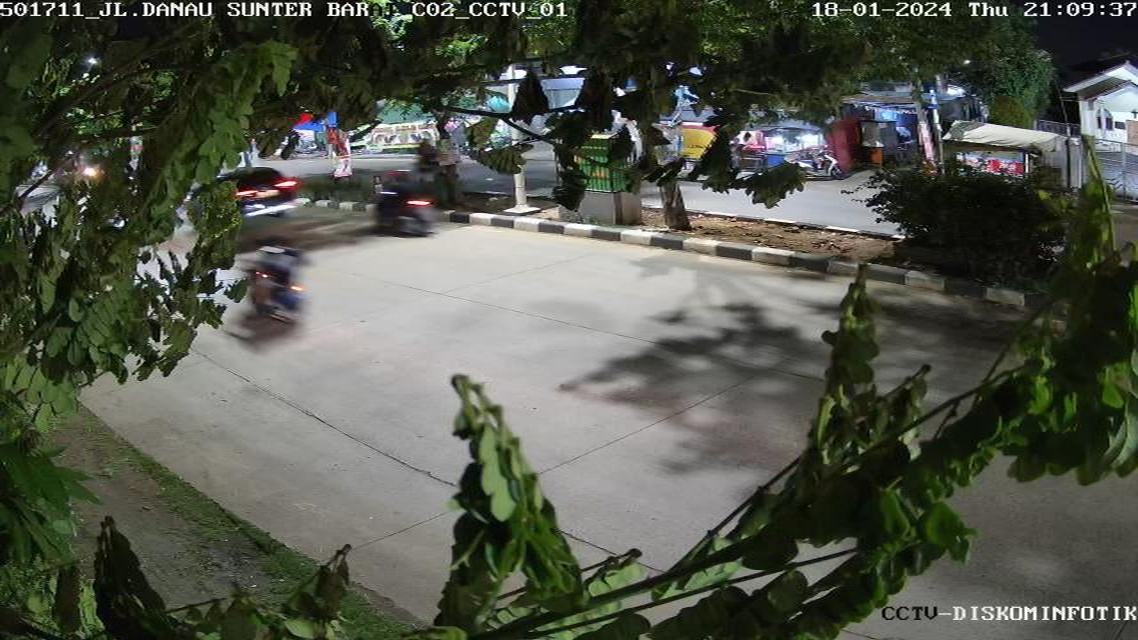Gerobak: (952, 142, 1029, 186), (761, 123, 825, 172)
